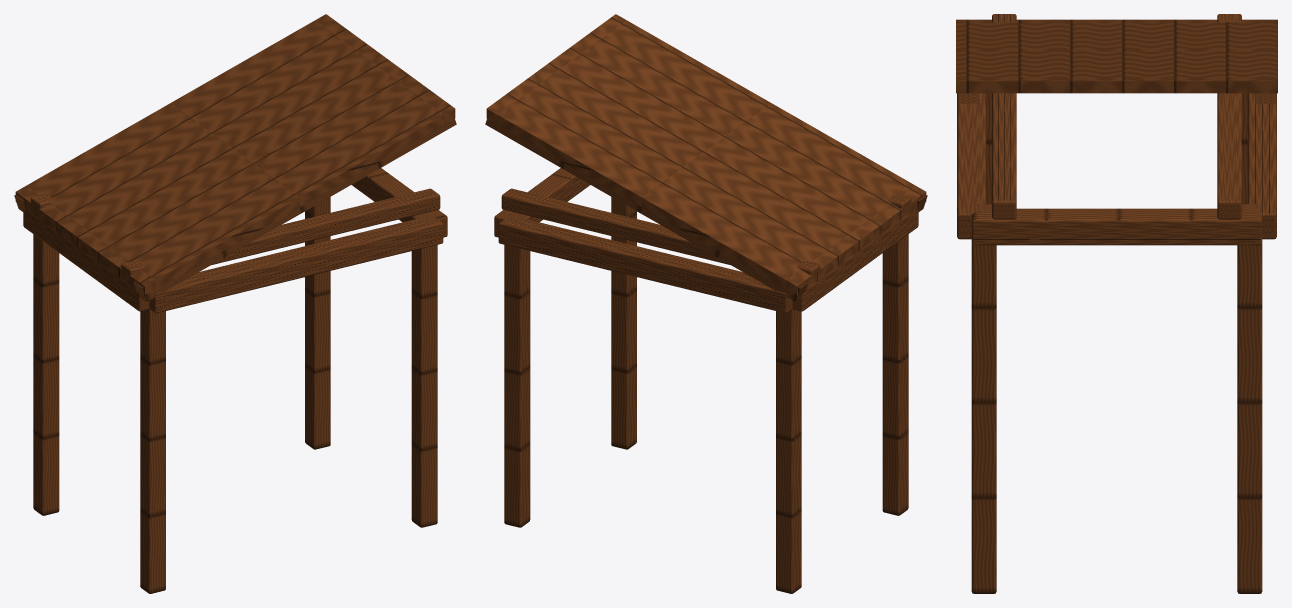
The model's file is rural-scavenging-settlements-cottage-porch-frame-0b332a93__26513.glb.
The picture shows the model from 3 angles, left to right: view 1: azimuth 30°, elevation 25°; view 2: azimuth 150°, elevation 25°; view 3: azimuth 270°, elevation 25°; orthographic projection. The views are drawn at different scales.
Parts seen in each view (by area): view 1: cottage-porch-frame; view 2: cottage-porch-frame; view 3: cottage-porch-frame.
Part boxes in pixels (x1=…): cottage-porch-frame: x1=14, y1=14, x2=456, y2=593; cottage-porch-frame: x1=485, y1=14, x2=927, y2=593; cottage-porch-frame: x1=956, y1=14, x2=1277, y2=593.
Size of the model in its own units: 2.18 by 2.77 by 1.55.
1 material, 1 textured.
